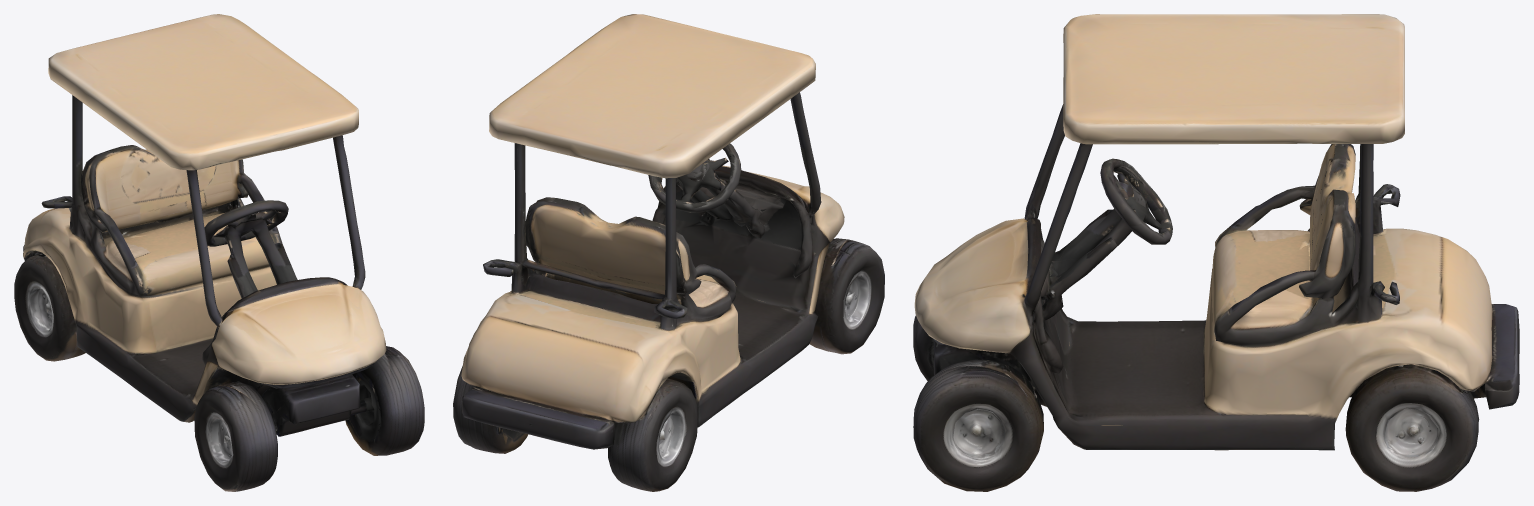
The model's file is Meshy_AI_Golf_Cart_0304202048_texture.obj.
3 views of the same model, side by side, from view 1: azimuth 30°, elevation 25°; view 2: azimuth 150°, elevation 25°; view 3: azimuth 270°, elevation 25° (orthographic). The views are drawn at different scales.
Parts seen in each view (by area): view 1: Meshy_AI_Golf_Cart_0304202048_texture; view 2: Meshy_AI_Golf_Cart_0304202048_texture; view 3: Meshy_AI_Golf_Cart_0304202048_texture.
Part boxes in pixels (bbox=[...]): Meshy_AI_Golf_Cart_0304202048_texture: bbox=[14, 14, 424, 491]; Meshy_AI_Golf_Cart_0304202048_texture: bbox=[453, 14, 884, 491]; Meshy_AI_Golf_Cart_0304202048_texture: bbox=[913, 14, 1519, 491].
Bounding box in the file's own units: 0.6548 × 1 × 1.47.
Materials: 1 (1 with a texture image).
